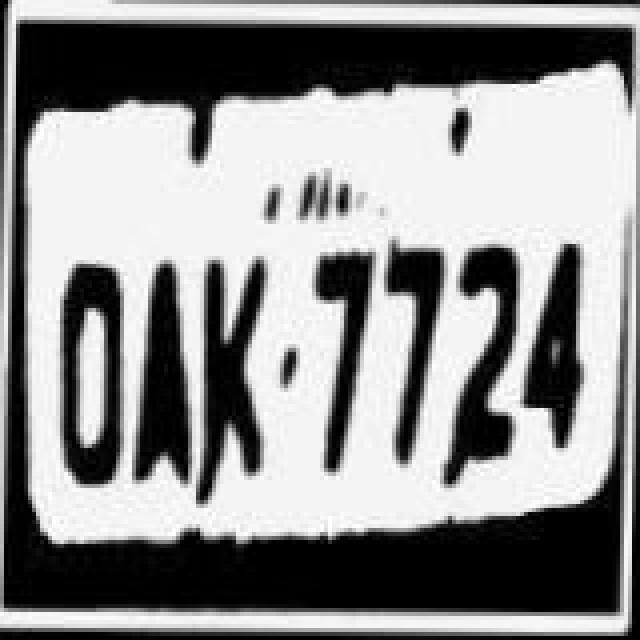2: (448, 242, 524, 462)
4: (522, 236, 594, 452)
7: (302, 242, 382, 482), (382, 242, 454, 478)
A: (132, 248, 200, 500)
K: (194, 246, 282, 498)
O: (48, 256, 136, 512)
